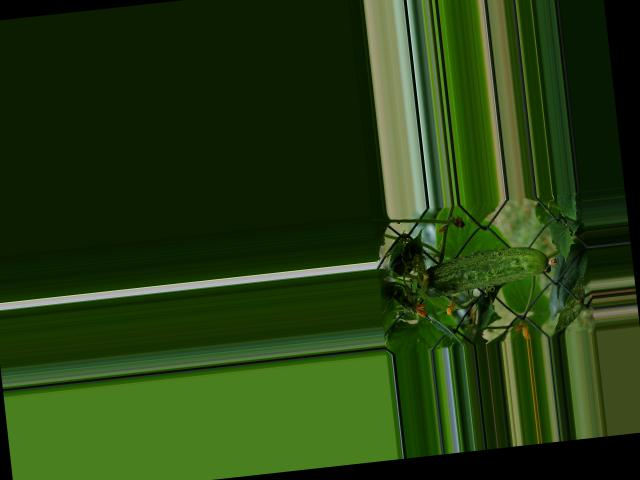cucumber: (415, 242, 558, 297)
